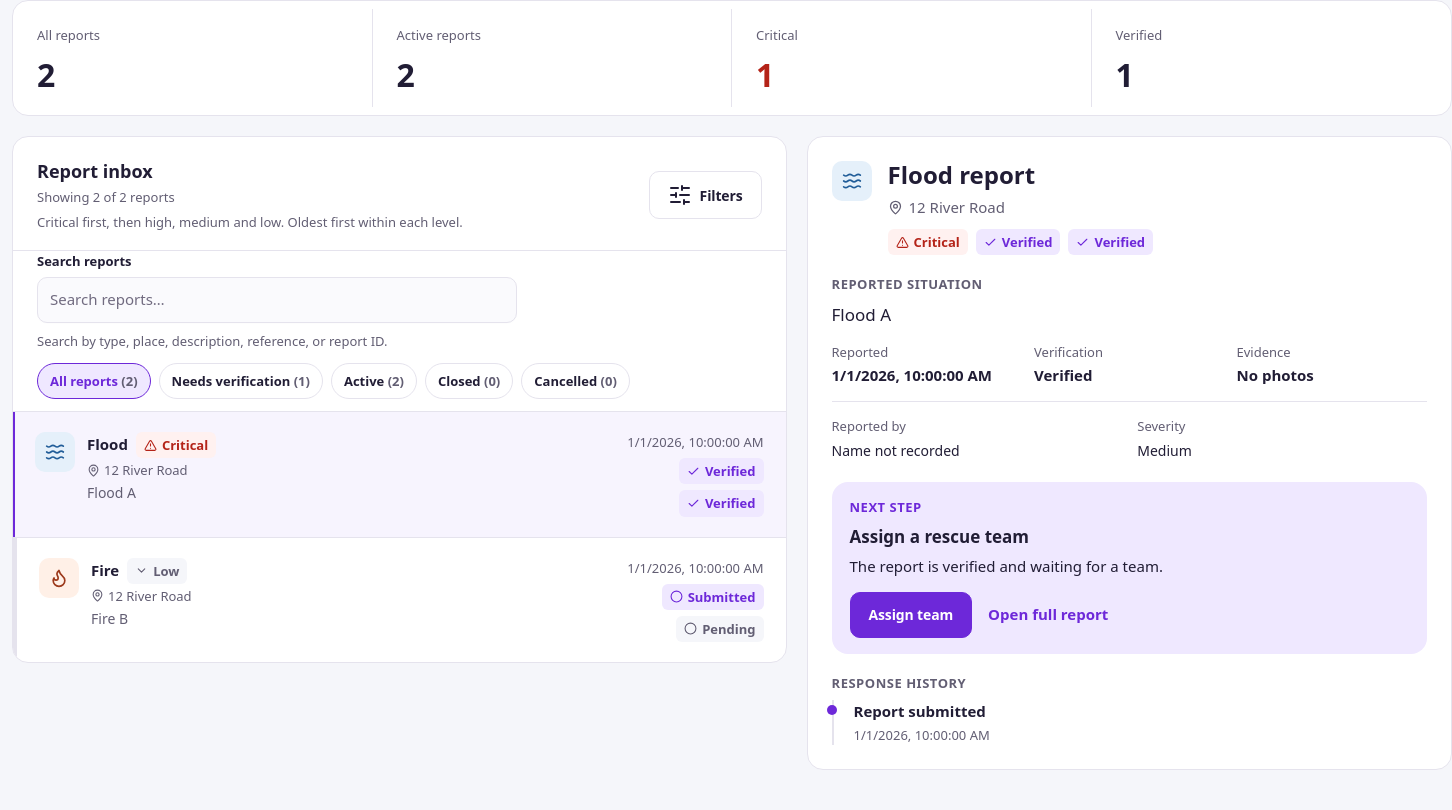
ReportQueue › filter Type narrows rows
Step 1. Click the button "Filters" → (705, 195), box [649,171,762,219]
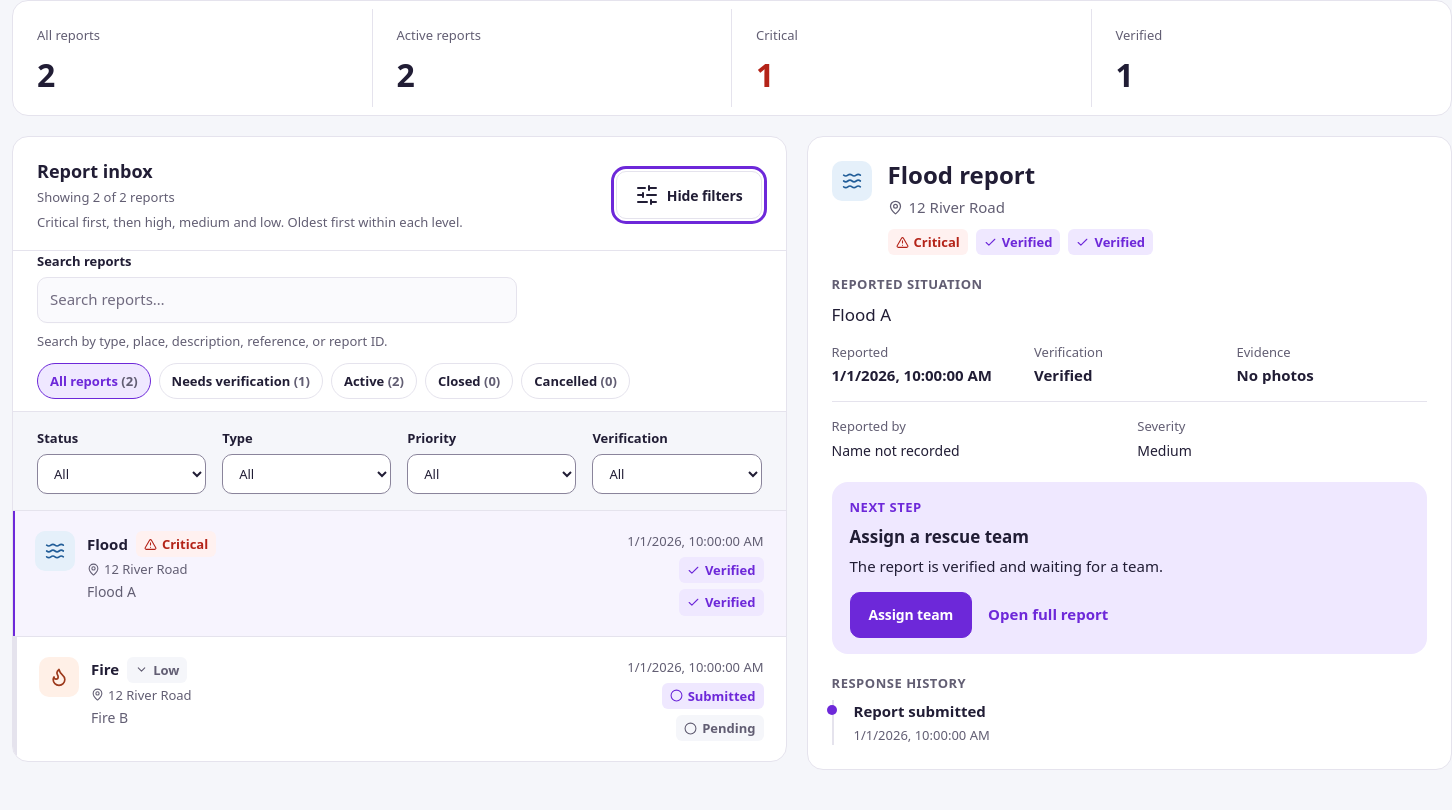
Step 2. Select "Fire" in the dropdown labelled "Type" → (307, 474), box [222,454,391,494]
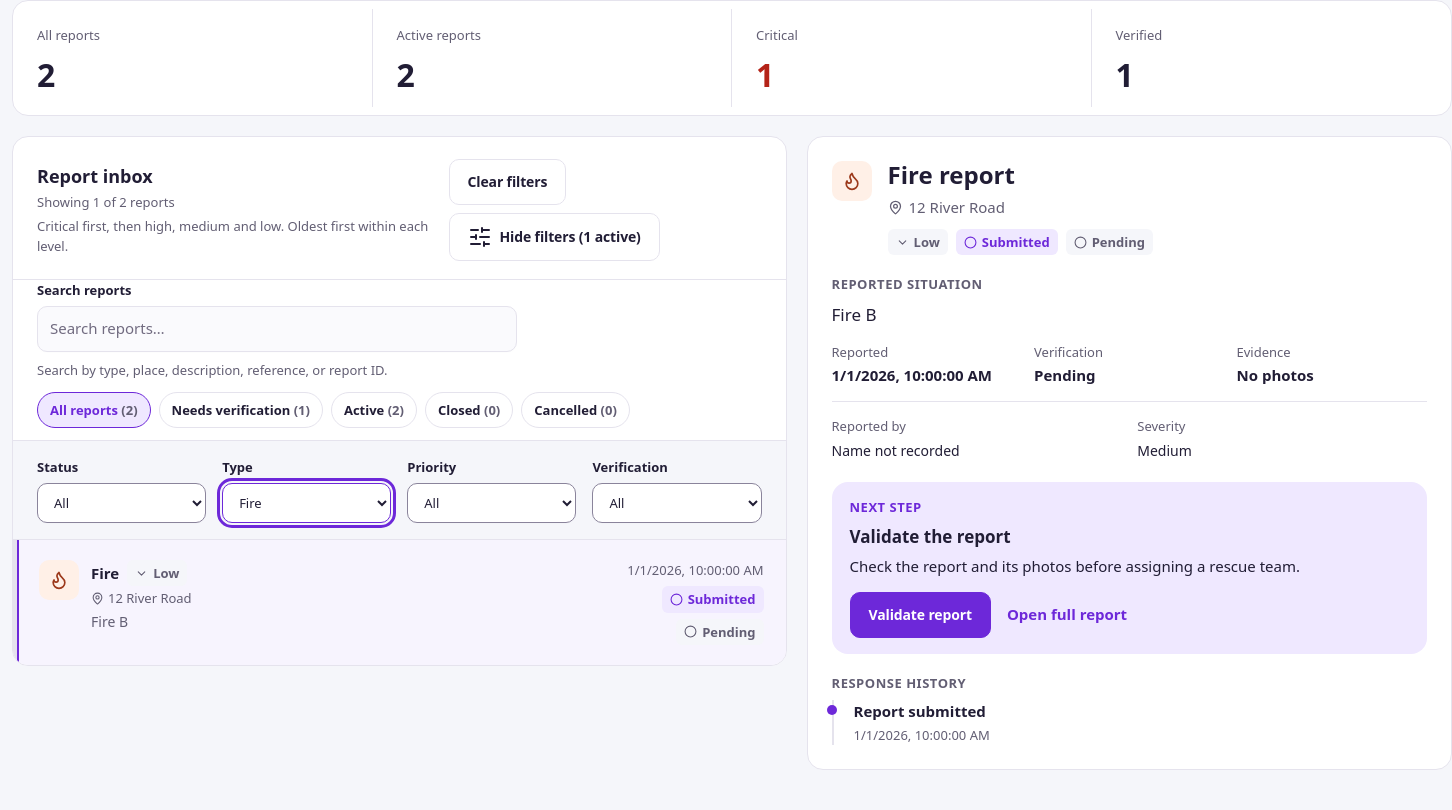
Check: the text "Fire B" below "Status" is shown, box [91,612,128,631]
Check: the button "Flood A" is gone
